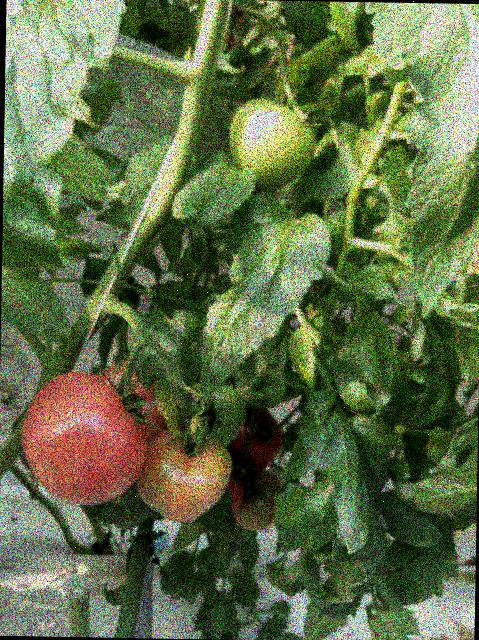b_fully_ripened: (18, 370, 148, 506), (231, 404, 283, 469)
b_green: (227, 97, 317, 188), (176, 380, 246, 448), (233, 470, 284, 531)
b_half_ripened: (134, 425, 232, 524), (94, 358, 167, 444)
